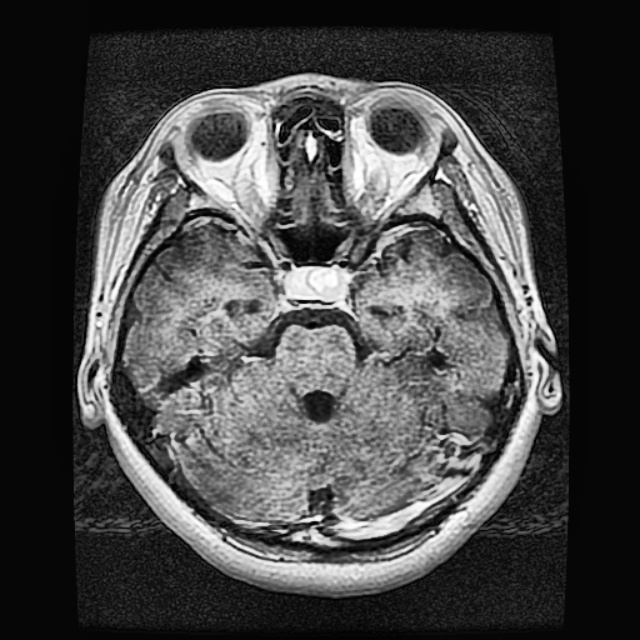Pituitary: (285, 265, 345, 299)
